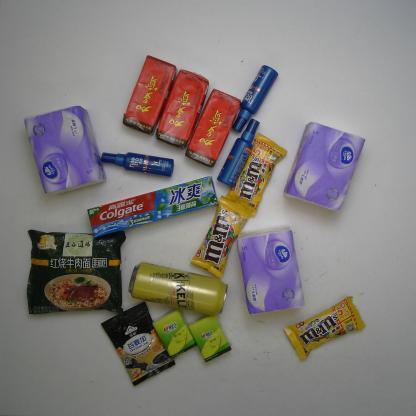Alcohol: (126, 261, 230, 317)
Chocolate: (283, 294, 367, 361), (189, 193, 255, 278), (222, 132, 286, 218)
Drink: (184, 87, 242, 169), (122, 53, 178, 136), (154, 68, 210, 150)
Instant Drink: (100, 300, 176, 388)
Instant Noodles: (24, 228, 126, 316)
Personal Hygiene: (86, 176, 221, 242), (230, 64, 279, 132), (216, 117, 261, 188), (98, 151, 175, 178)
Tissue: (281, 120, 367, 213), (23, 104, 107, 197), (235, 223, 306, 318), (152, 306, 198, 361), (188, 313, 232, 363)
